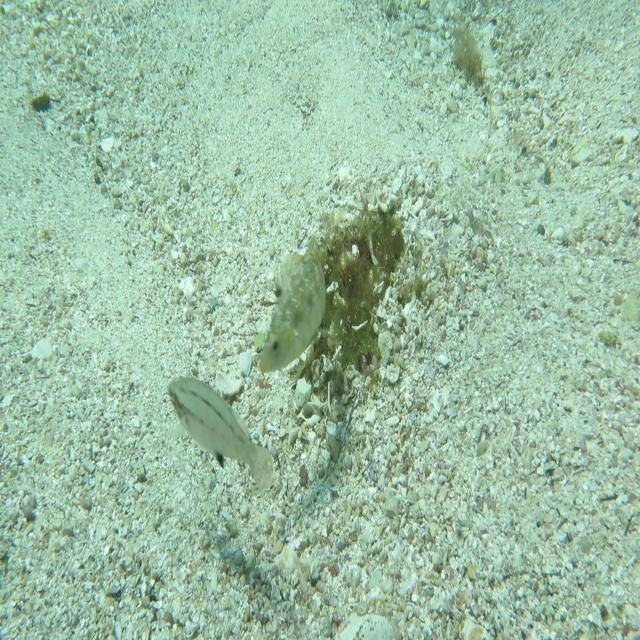CHASE_FLEE: (257, 234, 328, 374)
female: (166, 375, 274, 494)
nest: (274, 184, 418, 420)
